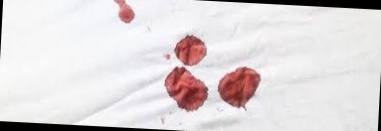blood: (164, 65, 210, 113), (217, 67, 258, 111), (173, 36, 207, 66), (111, 0, 139, 25)
